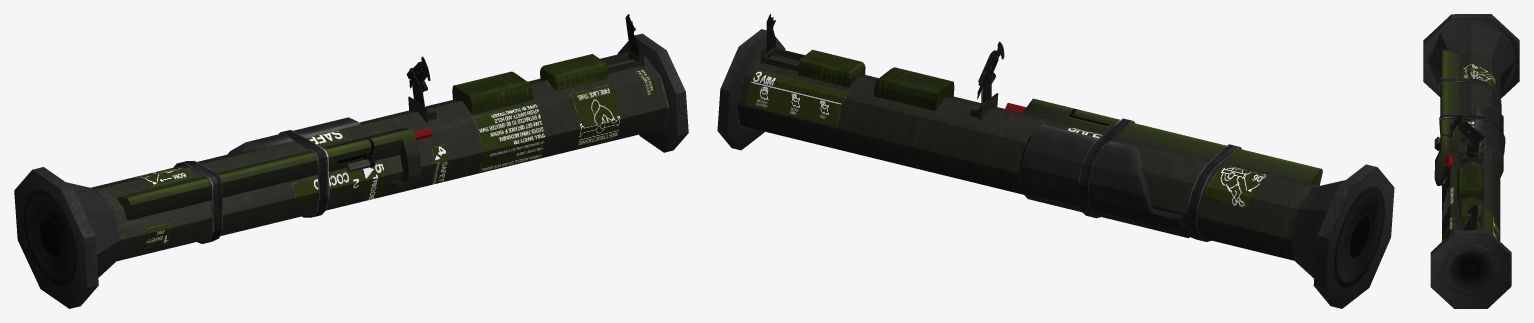
File: rocket.gltf
3 views of the same model, side by side, from view 1: azimuth 30°, elevation 25°; view 2: azimuth 150°, elevation 25°; view 3: azimuth 270°, elevation 25° (orthographic). The views are drawn at different scales.
Parts seen in each view (by area): view 1: rl_png; view 2: rl_png; view 3: rl_png.
Part boxes in pixels (x1,y1,x2,y2): rl_png: [14, 14, 688, 308]; rl_png: [717, 14, 1394, 308]; rl_png: [1423, 14, 1519, 308].
Bounding box in the file's own units: 7.51 × 1.86 × 1.42.
Materials: 1 (1 with a texture image).
